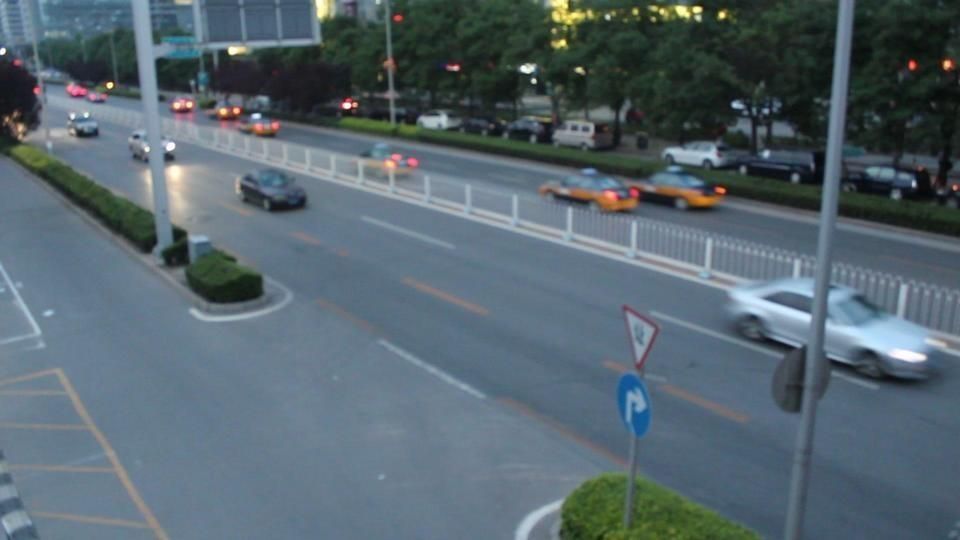car: (720, 276, 943, 382), (538, 167, 644, 214), (633, 168, 730, 212), (842, 164, 929, 199), (238, 168, 308, 211), (736, 149, 820, 184), (661, 140, 747, 171), (552, 120, 617, 151), (365, 143, 421, 174), (128, 132, 177, 163), (504, 117, 555, 144), (417, 111, 464, 132), (239, 114, 281, 137), (457, 117, 500, 136), (67, 114, 100, 138), (70, 84, 109, 102), (214, 103, 244, 120), (169, 97, 196, 114), (66, 82, 92, 99)
